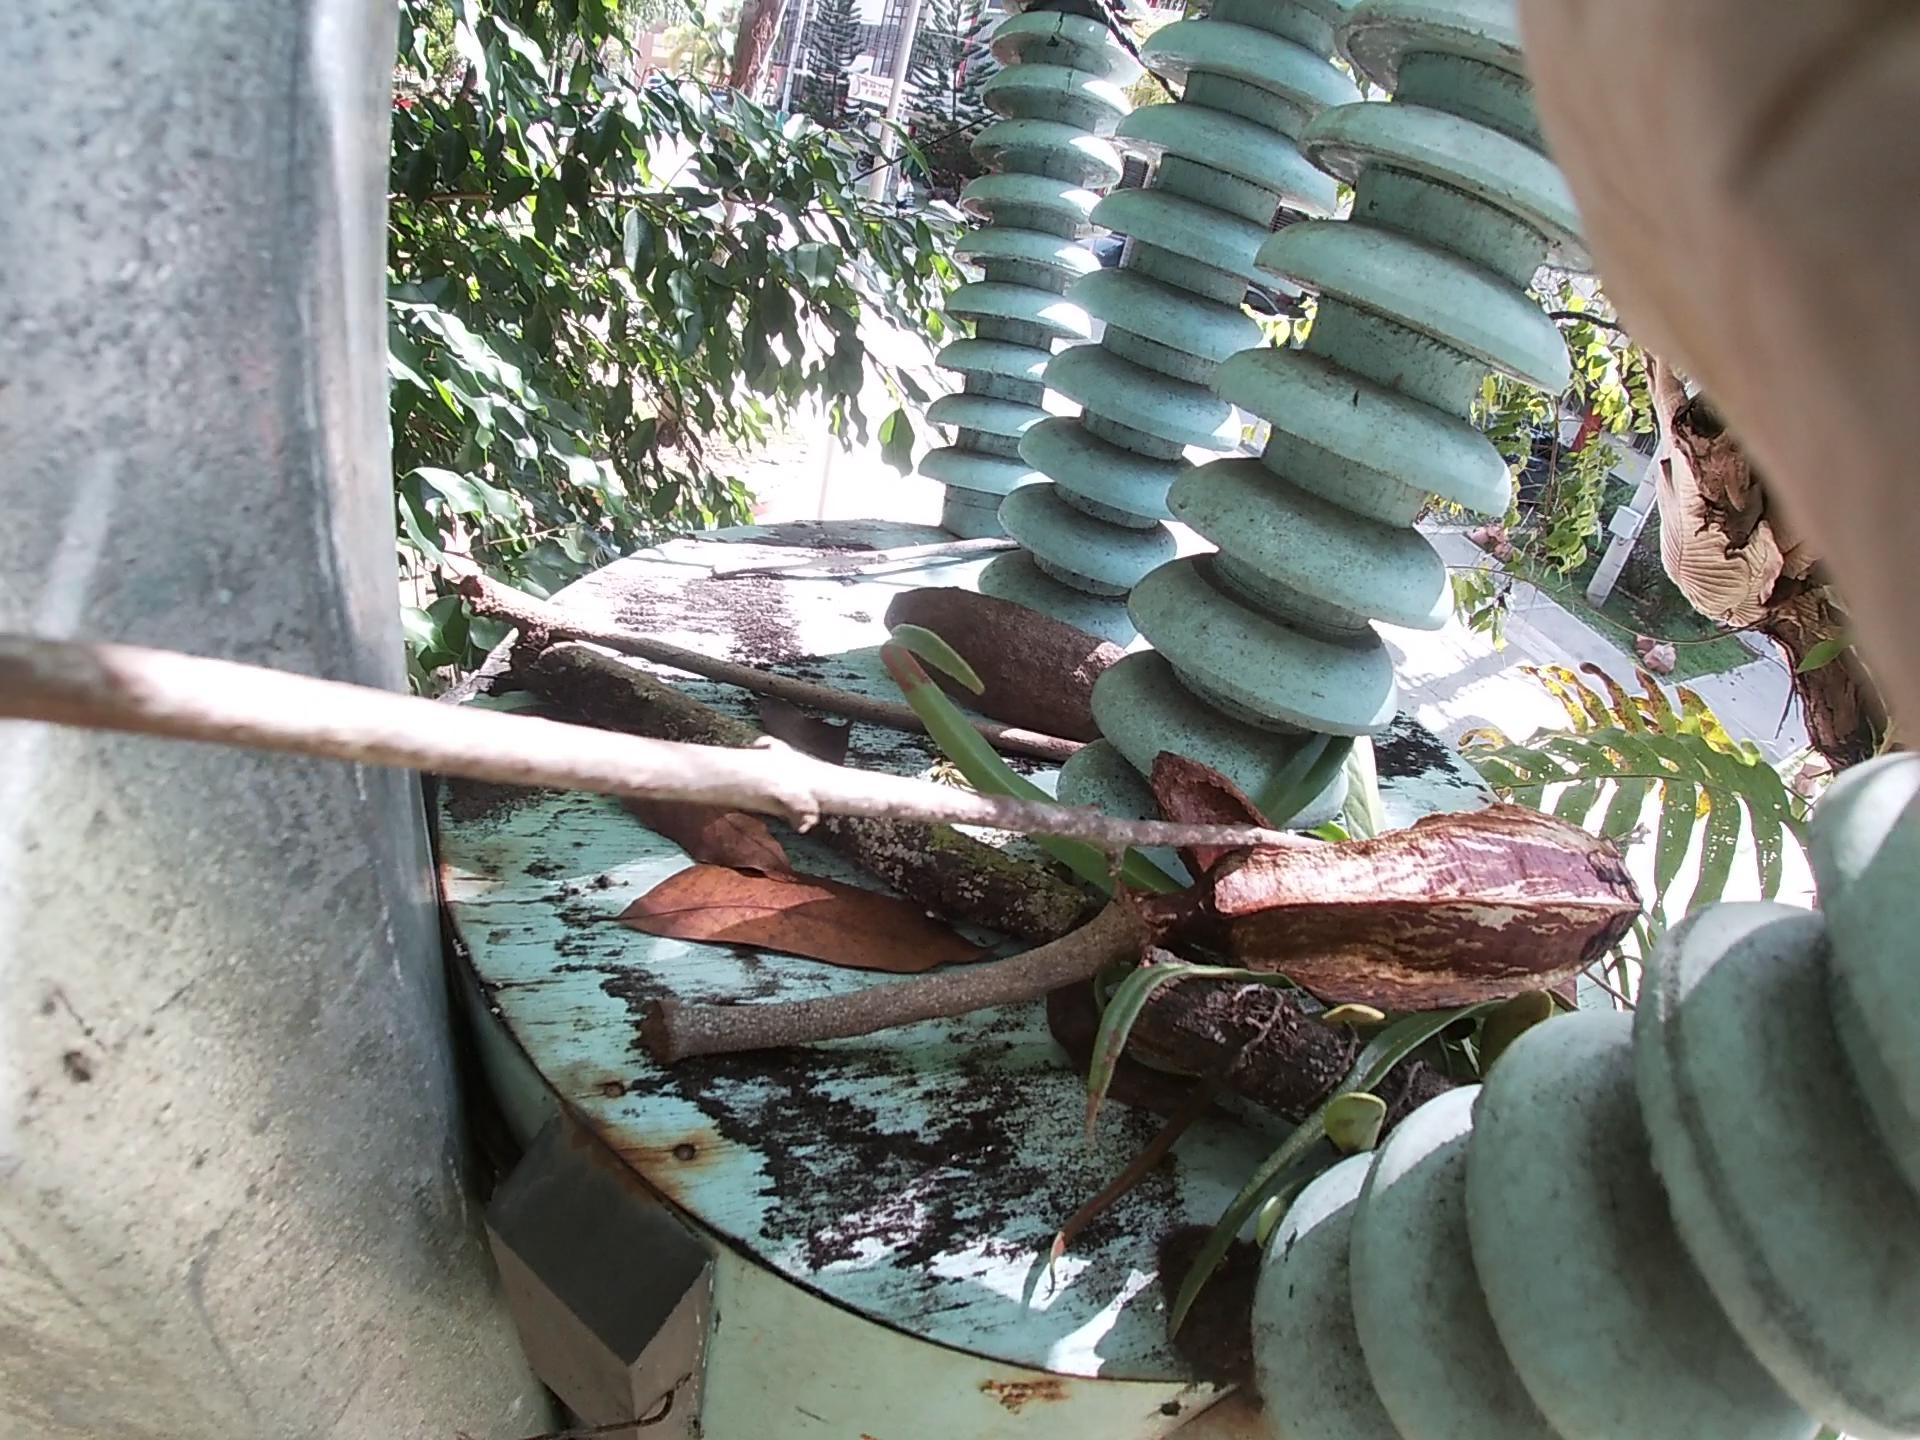branch with leaves: (531, 644, 1504, 1110)
leaf: (579, 737, 872, 997)
mahogany fruit: (1203, 800, 1686, 1062), (868, 504, 1123, 759), (1132, 693, 1290, 915)
tree branch: (97, 669, 1336, 843), (500, 582, 1117, 759), (630, 905, 1172, 991), (735, 507, 1048, 582)
